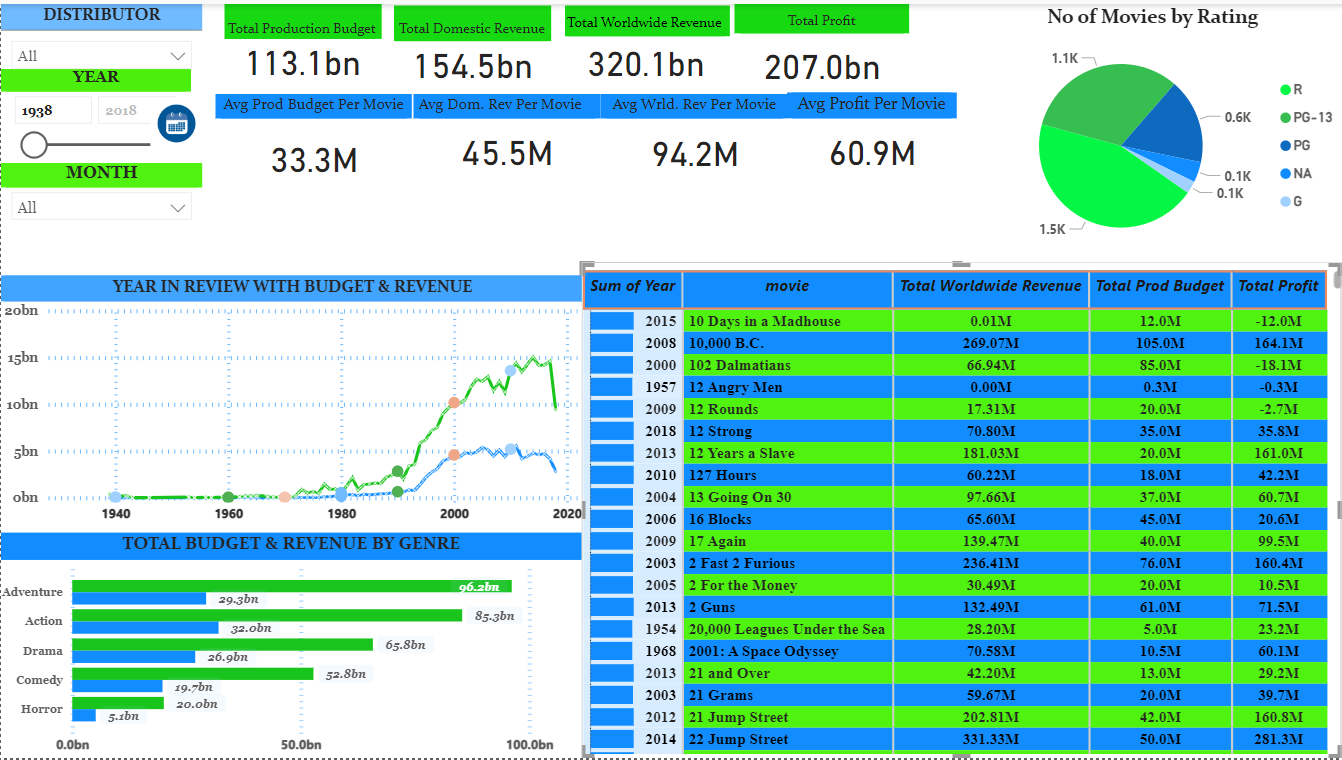

The dashboard page shown, as its layout file describes it:
{"tool":"powerbi","page":{"name":"Movie Visuals","canvas":[1280,720],"ordinal":0},"visuals":[{"type":"card","title":"Total Production Budget","fields":{"Values":["My Calc Table.Total Prod Budget"]},"box":[213.3,0,149.8,92.3],"z":0},{"type":"card","title":"Total Domestic Revenue","fields":{"Values":["My Calc Table.Total Domestic Revenue"]},"box":[375.2,1.5,149.8,92.3],"z":1000},{"type":"card","title":"Total Worldwide Revenue","fields":{"Values":["My Calc Table.Total Worldwide Revenue"]},"box":[538.6,1.5,157.4,92.3],"z":2000},{"type":"card","title":"Total Profit","fields":{"Values":["My Calc Table.Total Profit"]},"box":[700.5,0,166.4,92.3],"z":3000},{"type":"card","title":"Avg Prod Budget Per Movie","fields":{"Values":["My Calc Table.Avg Prod Budget Per Movie"]},"box":[204.3,86.2,187.6,90.8],"z":4000},{"type":"card","title":"Avg Dom. Rev Per Movie","fields":{"Values":["My Calc Table.Avg Domestic Rev per movie"]},"box":[393.4,86.2,178.5,89.3],"z":5000},{"type":"card","title":"Avg Wrld. Rev Per Movie","fields":{"Values":["My Calc Table.Avg Worldwide Rev Per Movie"]},"box":[571.9,86.2,178.5,90.8],"z":6000},{"type":"card","title":"Avg Profit Per Movie","fields":{"Values":["My Calc Table.Avg Profit Per Movie"]},"box":[750.4,84.7,161.9,90.8],"z":7000},{"type":"slicer","title":"YEAR","fields":{"Values":["All-time Movie Profit.Year"]},"box":[0,61.6,181.8,90.2],"z":8000},{"type":"slicer","title":"MONTH","fields":{"Values":["All-time Movie Profit.Month Name"]},"box":[0,151.3,192.2,63.5],"z":9000},{"type":"tableEx","fields":{"Values":["Sum(All-time Movie Profit.Year)","All-time Movie Profit.movie","My Calc Table.Total Worldwide Revenue","My Calc Table.Total Prod Budget","My Calc Table.Total Profit"]},"box":[553.8,246.6,726.2,473.6],"z":10000},{"type":"actionButton","box":[0,0,100,40],"z":11000},{"type":"clusteredBarChart","title":"TOTAL BUDGET & REVENUE BY GENRE","fields":{"Category":["All-time Movie Profit.genre"],"Y":["My Calc Table.Total Worldwide Revenue","My Calc Table.Total Prod Budget"]},"box":[0,503.9,554,216.1],"z":12000},{"type":"pieChart","title":"No of Movies by Rating","fields":{"Category":["All-time Movie Profit.mpaa_rating"],"Y":["My Calc Table.Total No of Movies"]},"box":[916.9,0,363.1,246.6],"z":13000},{"type":"lineChart","title":"YEAR IN REVIEW WITH BUDGET & REVENUE","fields":{"Y":["My Calc Table.Total Prod Budget","My Calc Table.Total Worldwide Revenue"],"Category":["All-time Movie Profit.Year"]},"box":[0,258.7,553.8,245.1],"z":14000},{"type":"slicer","title":"DISTRIBUTOR","fields":{"Values":["All-time Movie Profit.distributor"]},"box":[0,0,192.2,62],"z":15000},{"type":"image","box":[96.8,80.2,136.2,43.9],"z":16001}]}

Visuals, with their boxes in screenshot pixels (x1, y1, x2, y2), scaled from the page's 1280x720 canvas onto the 1342x760 screenshot:
"Total Production Budget" card: Rect(224, 0, 381, 97)
"Total Domestic Revenue" card: Rect(393, 2, 550, 99)
"Total Worldwide Revenue" card: Rect(565, 2, 730, 99)
"Total Profit" card: Rect(734, 0, 909, 97)
"Avg Prod Budget Per Movie" card: Rect(214, 91, 411, 187)
"Avg Dom. Rev Per Movie" card: Rect(412, 91, 600, 185)
"Avg Wrld. Rev Per Movie" card: Rect(600, 91, 787, 187)
"Avg Profit Per Movie" card: Rect(787, 89, 956, 185)
"YEAR" slicer: Rect(0, 65, 191, 160)
"MONTH" slicer: Rect(0, 160, 202, 227)
tableEx - Sum(All-time Movie Profit.Year) x All-time Movie Profit.movie: Rect(581, 260, 1341, 759)
actionButton: Rect(0, 0, 105, 42)
"TOTAL BUDGET & REVENUE BY GENRE" clusteredBarChart: Rect(0, 532, 581, 759)
"No of Movies by Rating" pieChart: Rect(961, 0, 1341, 260)
"YEAR IN REVIEW WITH BUDGET & REVENUE" lineChart: Rect(0, 273, 581, 532)
"DISTRIBUTOR" slicer: Rect(0, 0, 202, 65)
image: Rect(101, 85, 244, 131)
